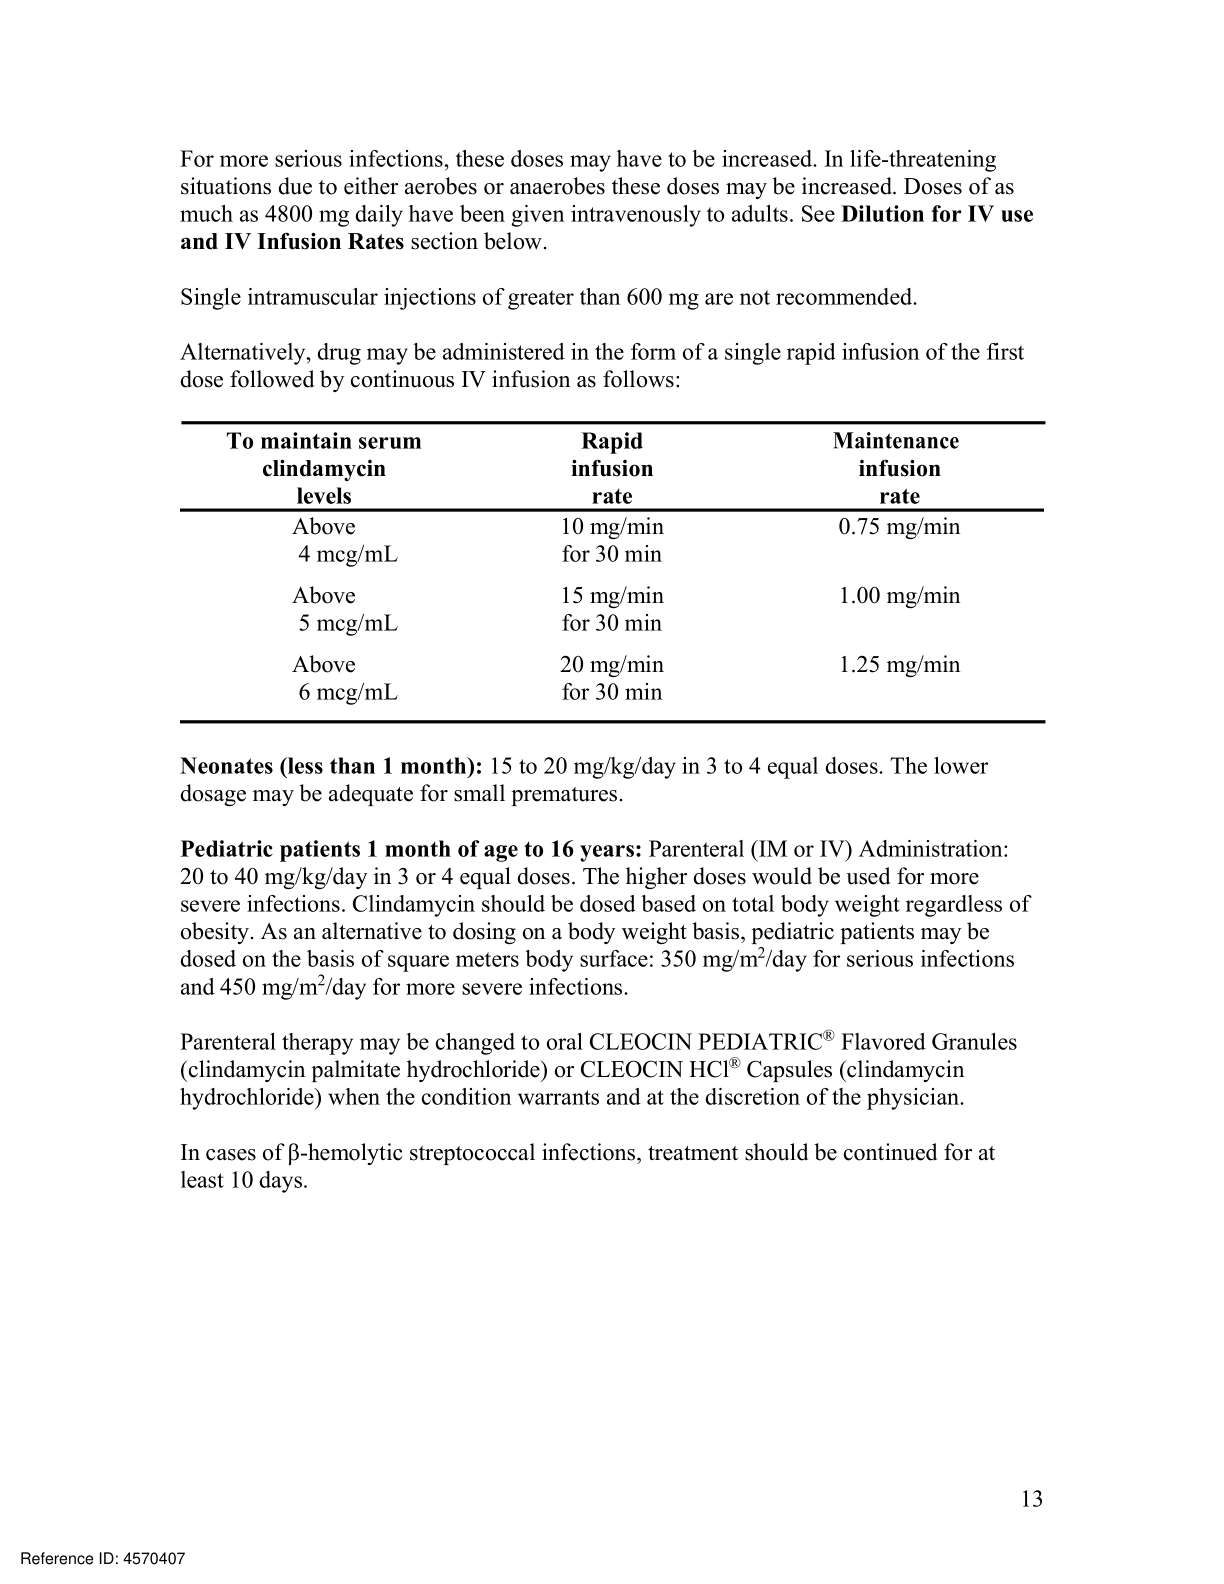partial_lined: (179, 420, 1047, 724)
